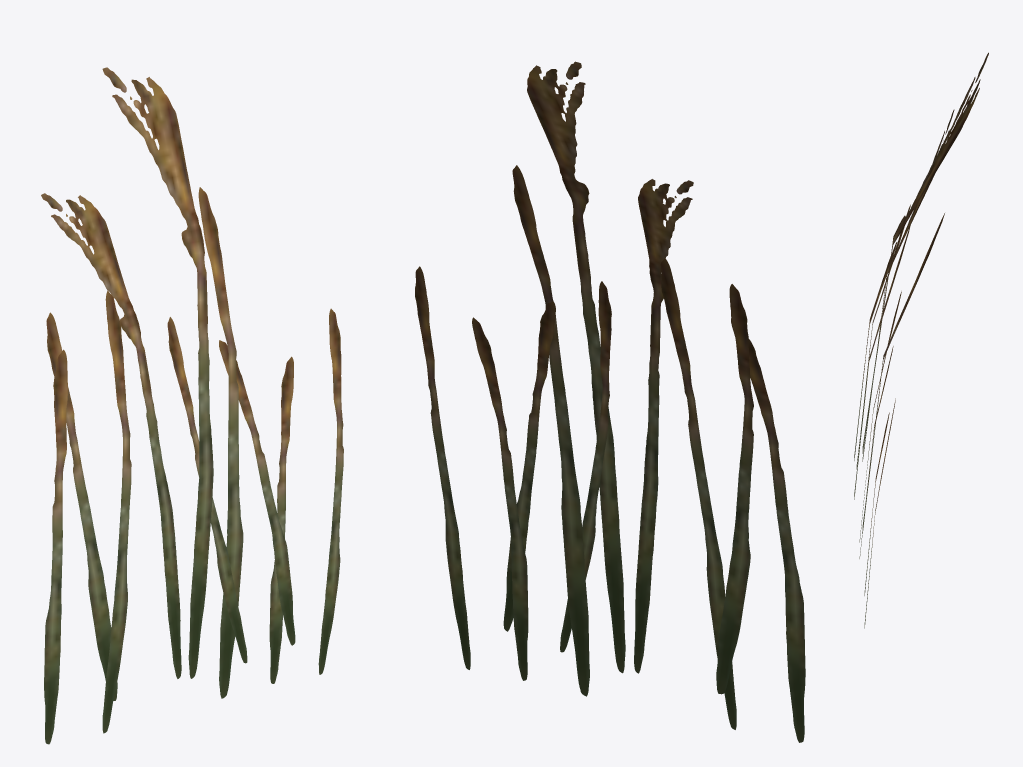
The picture shows the model from 3 angles, left to right: view 1: azimuth 30°, elevation 25°; view 2: azimuth 150°, elevation 25°; view 3: azimuth 270°, elevation 25°; orthographic projection. The views are drawn at different scales.
Parts seen in each view (by area): view 1: wj38; view 2: wj38; view 3: wj38.
Boxes of the visible parts, x1=… form: wj38: x1=41, y1=67, x2=343, y2=744; wj38: x1=415, y1=61, x2=805, y2=742; wj38: x1=854, y1=52, x2=988, y2=628.
Bounding box in the file's own units: 188 × 329 × 70.42.
